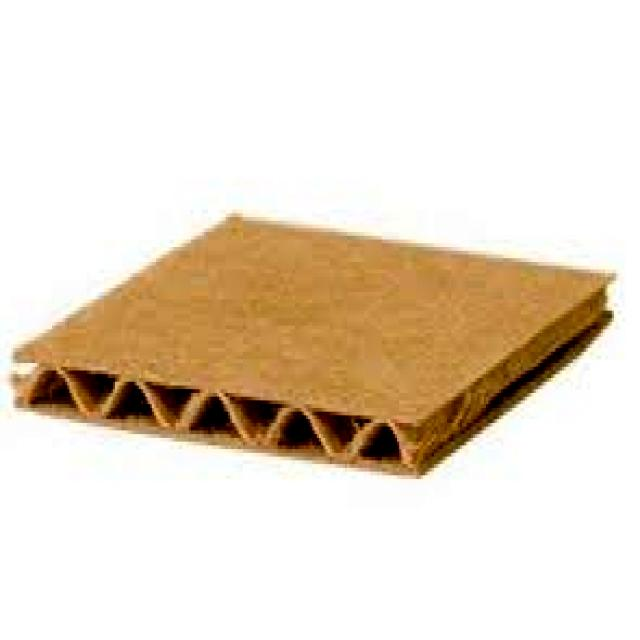Cardboard: (3, 199, 625, 490)
